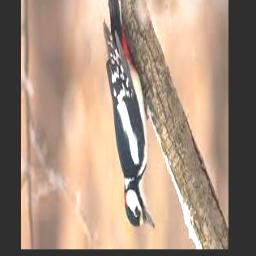Woodpecker: (104, 0, 156, 230)
